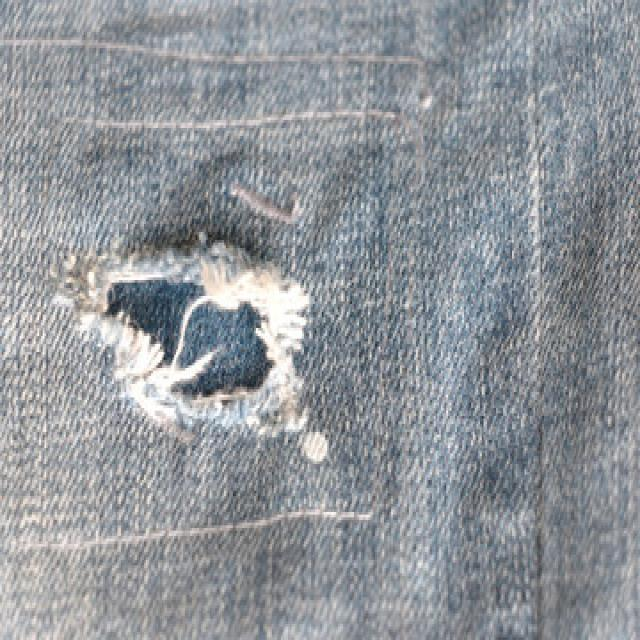Hole: (55, 233, 310, 436)
Knot: (230, 183, 303, 224)
Line: (527, 0, 556, 640), (12, 510, 374, 553), (0, 37, 423, 64), (67, 109, 402, 130)
Stain: (302, 433, 329, 464)
